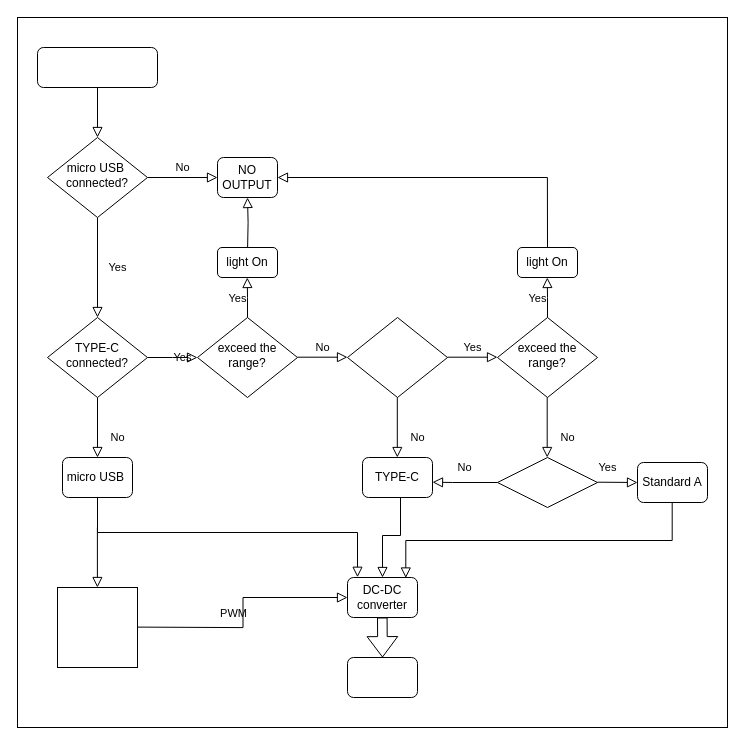
The diagram is 745 pixels wide and 745 high, and some of its shapes have lost their labels. The box of each missing label's shape, as (x1, y1, x2, y2) in pixels:
MCU: (56, 586, 138, 668)
output voltage: (346, 656, 418, 698)
Standard A connected?: (346, 316, 448, 398)
START: (36, 46, 158, 88)
Va>Vc?: (496, 456, 598, 508)
